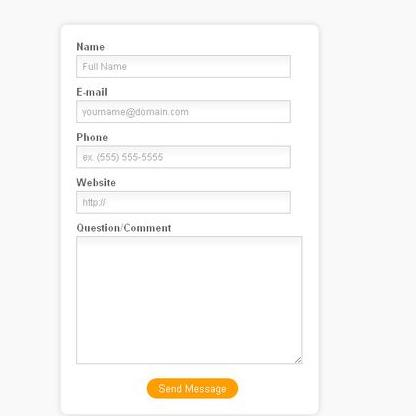button: (145, 377, 240, 399)
field: (75, 234, 304, 367), (75, 53, 295, 80), (74, 144, 294, 170), (74, 98, 293, 124), (74, 189, 293, 215)
field_with_label: (72, 222, 307, 369), (73, 41, 297, 82), (71, 132, 297, 172), (73, 177, 296, 217), (72, 87, 297, 126)
